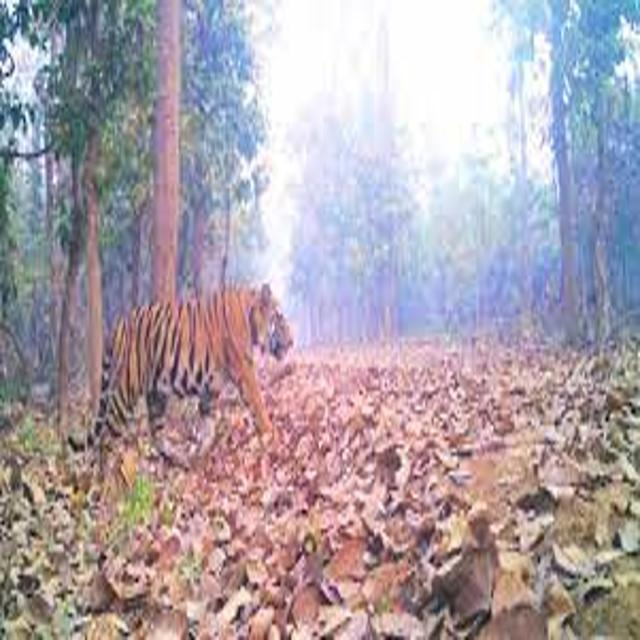Tiger: (69, 268, 364, 478)
